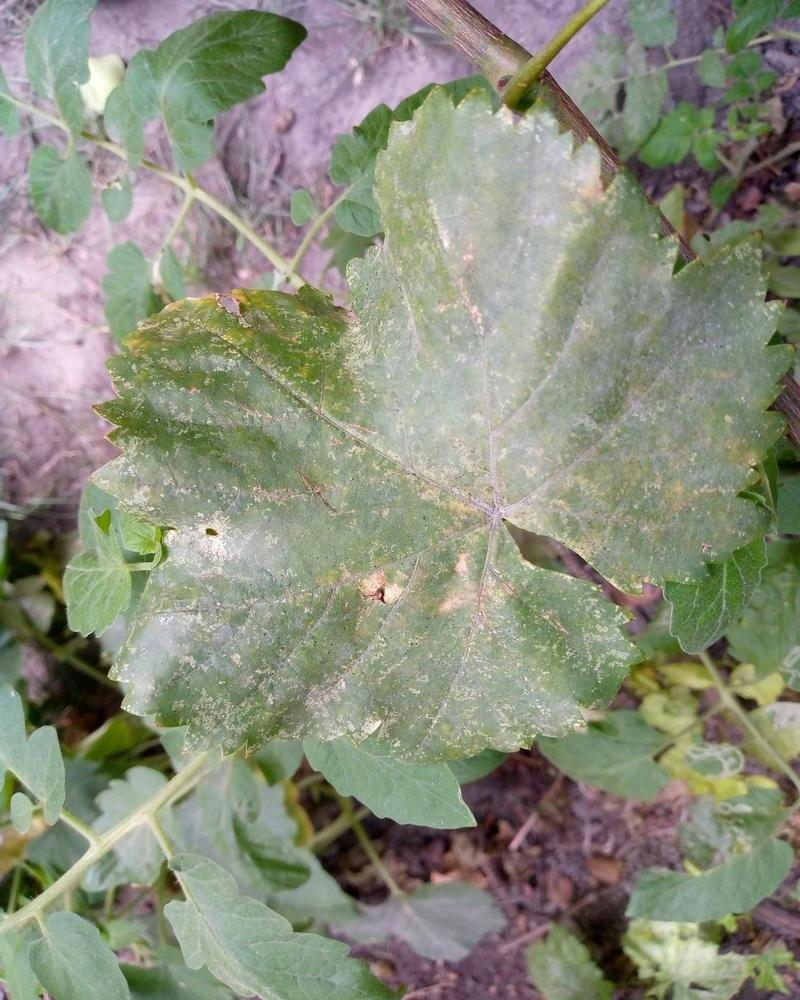Powdery-Mildew: (386, 111, 603, 519), (602, 239, 770, 559), (91, 448, 290, 718), (360, 563, 567, 732), (184, 587, 390, 740), (307, 429, 370, 492)
